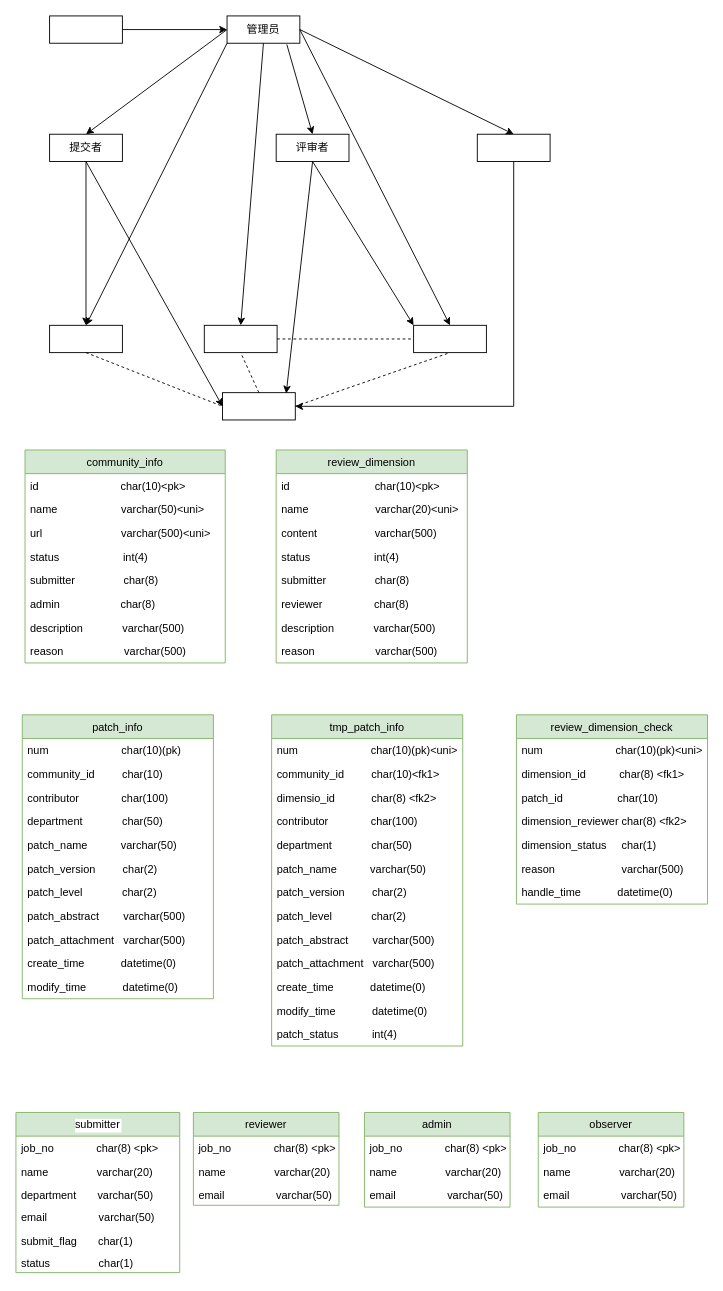
This 723x1291 diagram has some shape labels left out. The centre of each missing label's shape, as x and y in pixels:
案例: point 258,406
社区信息: point 85,338
系统观察员: point 513,147
评审维度: point 449,338
评审部门: point 240,338
超管: point 85,29
